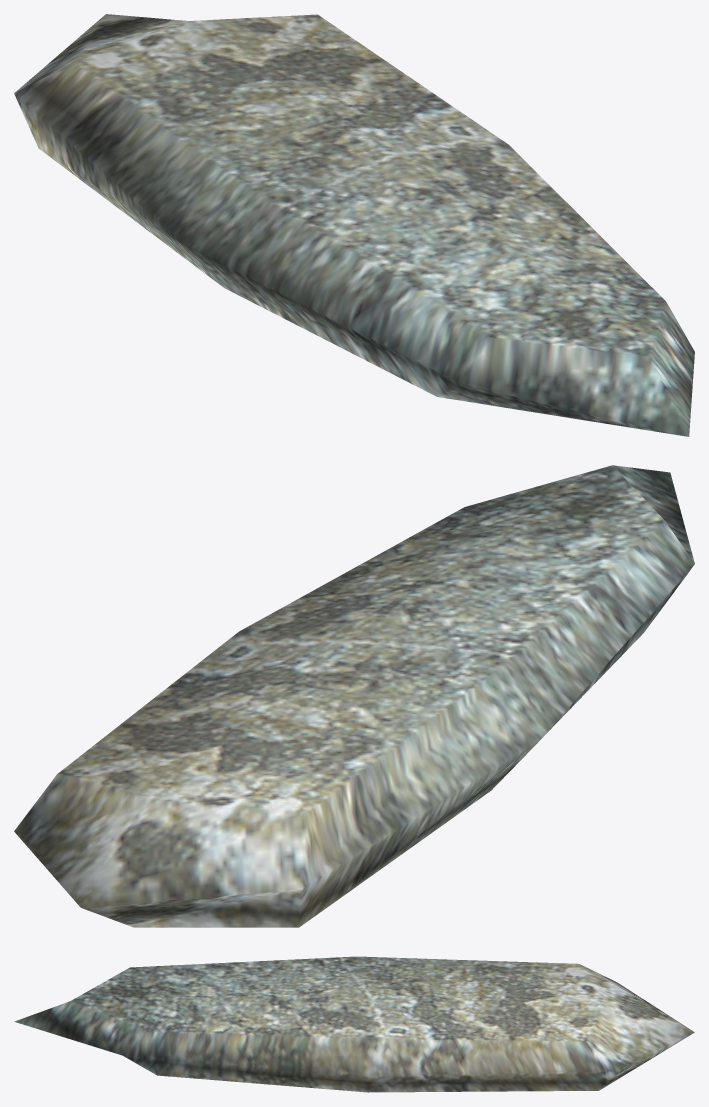
Rendered from sharp_stone.fbx.
3 renders of one model, top to bottom at view 1: azimuth 30°, elevation 25°; view 2: azimuth 150°, elevation 25°; view 3: azimuth 270°, elevation 25°, orthographic. The views are drawn at different scales.
Visible parts, largest first — view 1: Cube; view 2: Cube; view 3: Cube.
Part boxes in pixels (bbox=[...]): Cube: bbox=[14, 14, 694, 436]; Cube: bbox=[14, 465, 694, 927]; Cube: bbox=[14, 956, 694, 1092].
Bounding box in the file's own units: 14.93 × 5.21 × 43.89.
